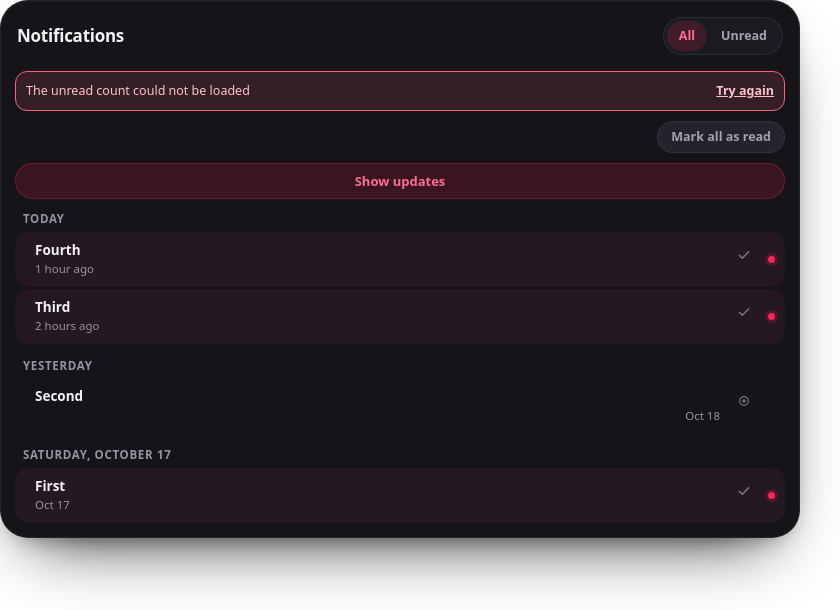
Inbox filters and paging › keeps a known counter while its later load fails and offers another retry
Expected: the message shows "The unread count could not be loaded", top-left (26, 82), bottom-right (250, 99)
Click the button "Try again".
click(745, 91)  # box top-left (716, 80), bottom-right (774, 102)
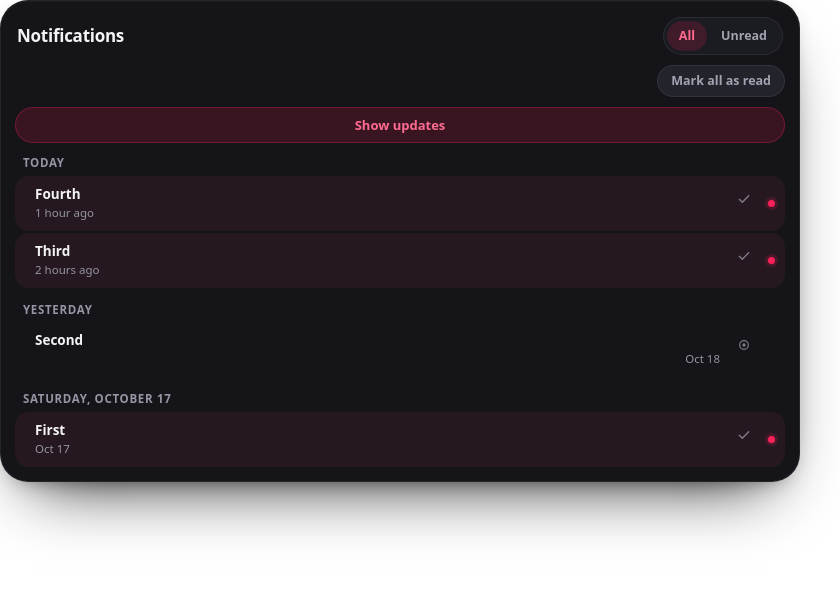
Expected: the text "The unread count could not be loaded" is gone
